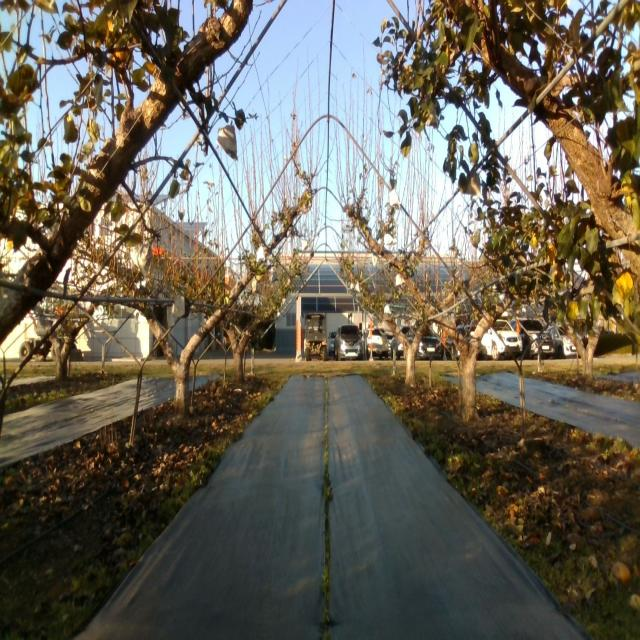pearbags: (217, 119, 238, 160), (130, 242, 152, 277), (464, 172, 480, 195)
